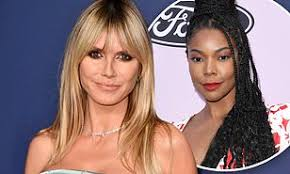white_female: (78, 11, 158, 103)
